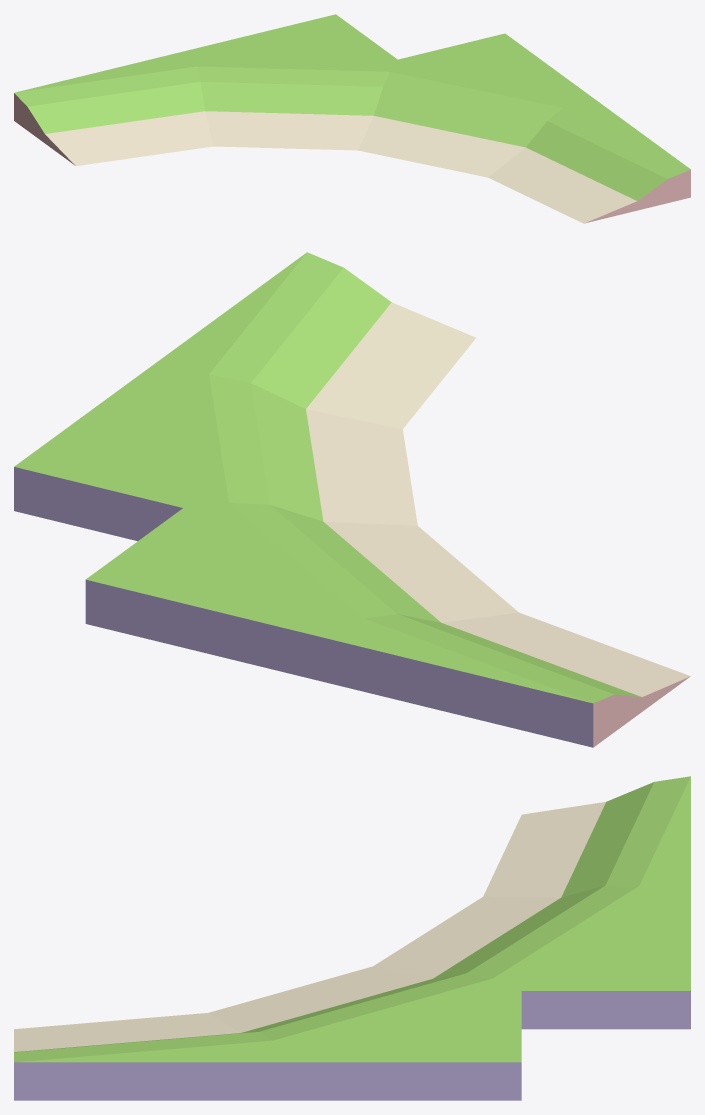
Rendered from Path_Terrain_Basic_Curve_Inner_4x4.glb.
3 views of the same model, one above another, from view 1: azimuth 30°, elevation 25°; view 2: azimuth 150°, elevation 25°; view 3: azimuth 270°, elevation 25° (orthographic). The views are drawn at different scales.
Parts seen in each view (by area): view 1: Path_Terrain_Basic_Curve_Inner_4x4; view 2: Path_Terrain_Basic_Curve_Inner_4x4; view 3: Path_Terrain_Basic_Curve_Inner_4x4.
Boxes of the visible parts, bbox=[...] form: Path_Terrain_Basic_Curve_Inner_4x4: bbox=[14, 14, 690, 223]; Path_Terrain_Basic_Curve_Inner_4x4: bbox=[14, 252, 690, 747]; Path_Terrain_Basic_Curve_Inner_4x4: bbox=[14, 776, 690, 1100].
Bounding box in the file's own units: 400 × 25 × 400.
